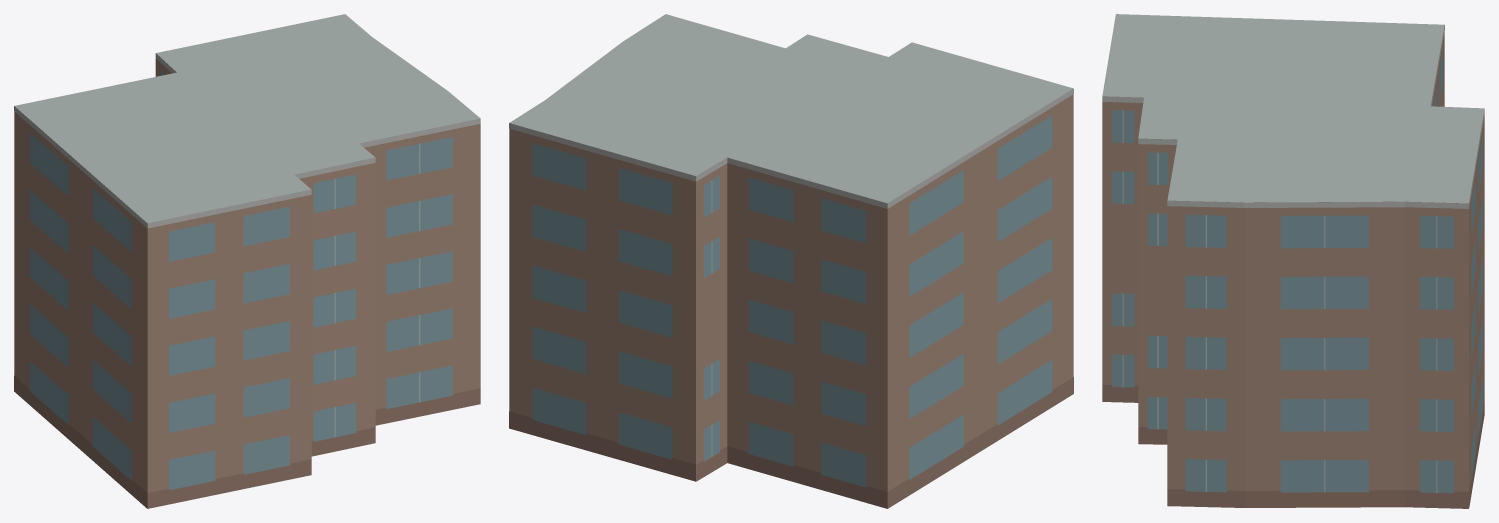
Rendered from survey-upis-32991056.glb.
The picture shows the model from 3 angles, left to right: view 1: azimuth 30°, elevation 25°; view 2: azimuth 150°, elevation 25°; view 3: azimuth 270°, elevation 25°; orthographic projection. The views are drawn at different scales.
Visible parts, largest first — view 1: survey-upis-32991056.tmp; view 2: survey-upis-32991056.tmp; view 3: survey-upis-32991056.tmp.
Part boxes in pixels (x1,y1,x2,y2): survey-upis-32991056.tmp: (14,14,480,508); survey-upis-32991056.tmp: (509,14,1073,508); survey-upis-32991056.tmp: (1102,14,1484,508).
Bounding box in the file's own units: 17.89 × 13.45 × 15.27.
